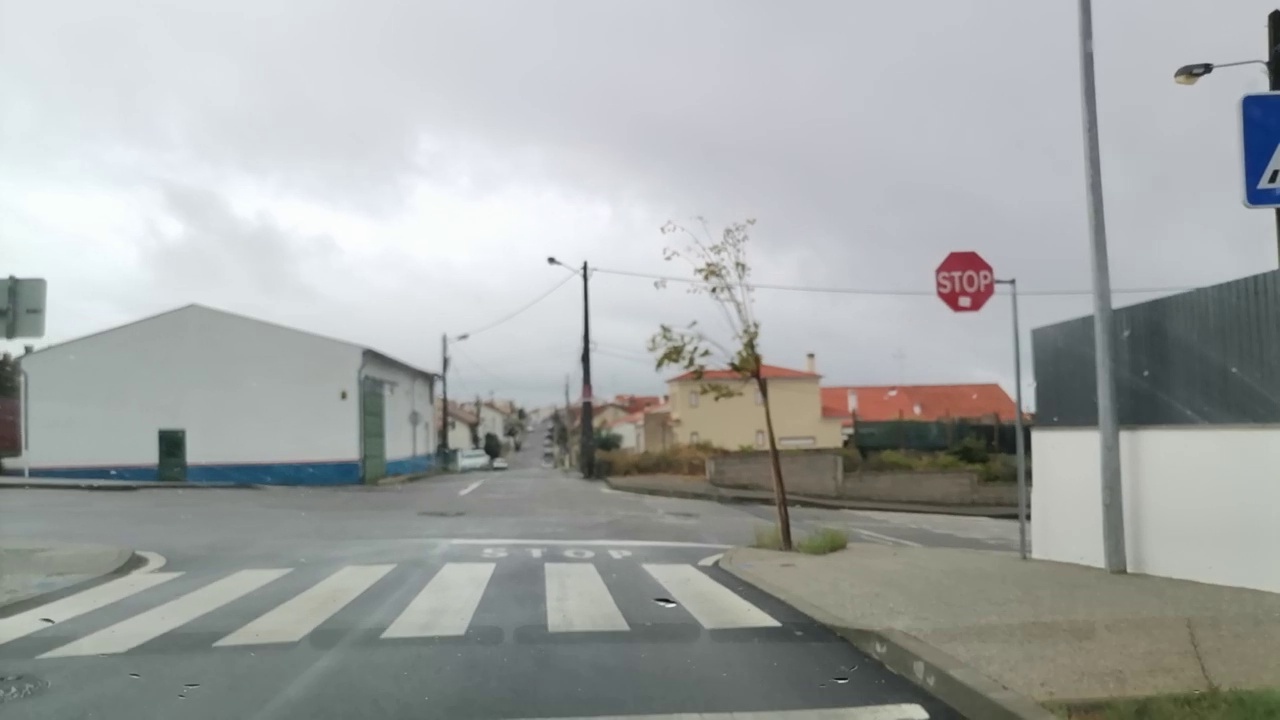Stairs: (0, 560, 787, 657)
